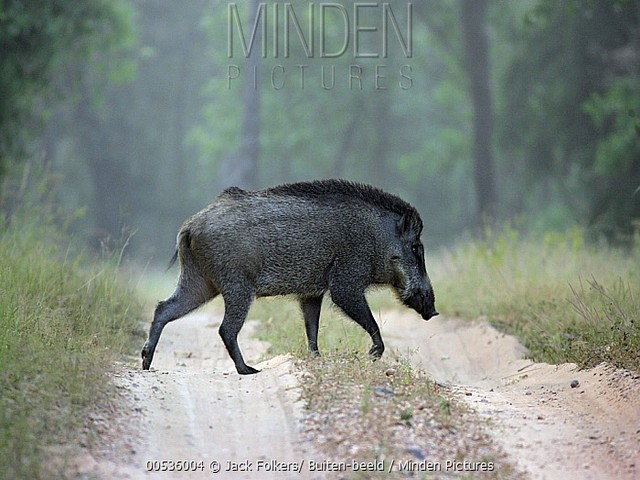Pig: (142, 180, 446, 370)
